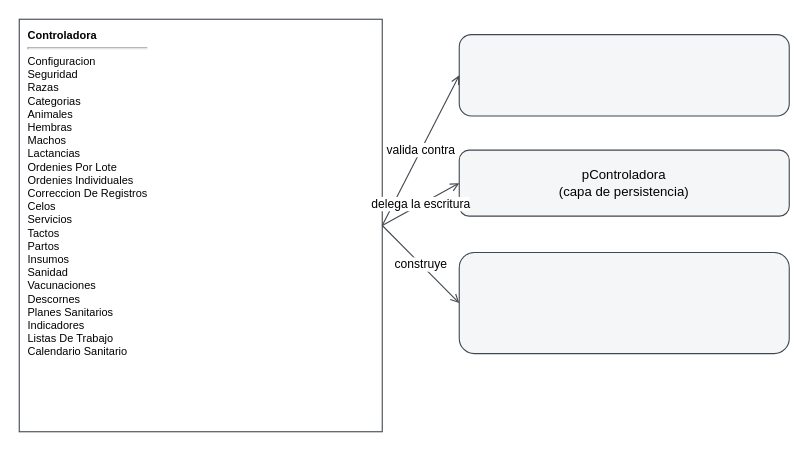
The diagram is 809 pixels wide and 451 high, and some of its shapes have lost their labels. The shapes that lost their labels are listed below. From the top down, each one's centre as x and y in pixels, then its label:
At [623,75]: "Listas static en memoria (caché del rodeo y de sus eventos)".
At [623,302]: "Clases de negocio Animal, Hembra, Macho, Lactancia, Servicio, Tratamiento, …".
